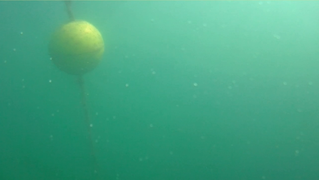buoy: (47, 20, 105, 76)
